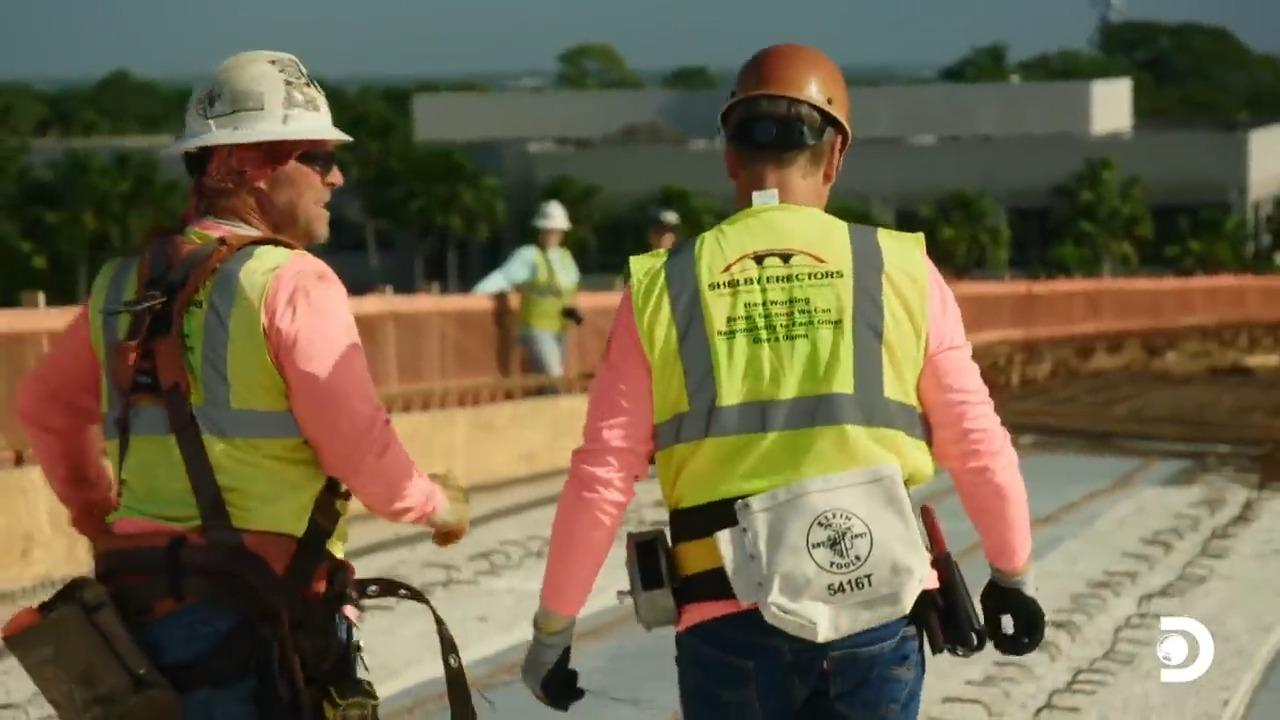Gloves: (500, 616, 588, 712), (976, 576, 1050, 666)
Helmet: (162, 48, 354, 155), (717, 42, 851, 152), (531, 198, 572, 231)
Person: (519, 41, 1046, 719), (14, 48, 470, 718), (485, 198, 600, 396)
Safety Vest: (632, 236, 898, 492), (90, 258, 302, 522)
bare-arms: (406, 472, 464, 546)
